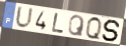4: (34, 10, 47, 31)
L: (51, 12, 65, 35)
Q: (86, 16, 103, 42), (67, 15, 86, 38)
S: (101, 19, 122, 43)
U: (14, 5, 35, 30)
